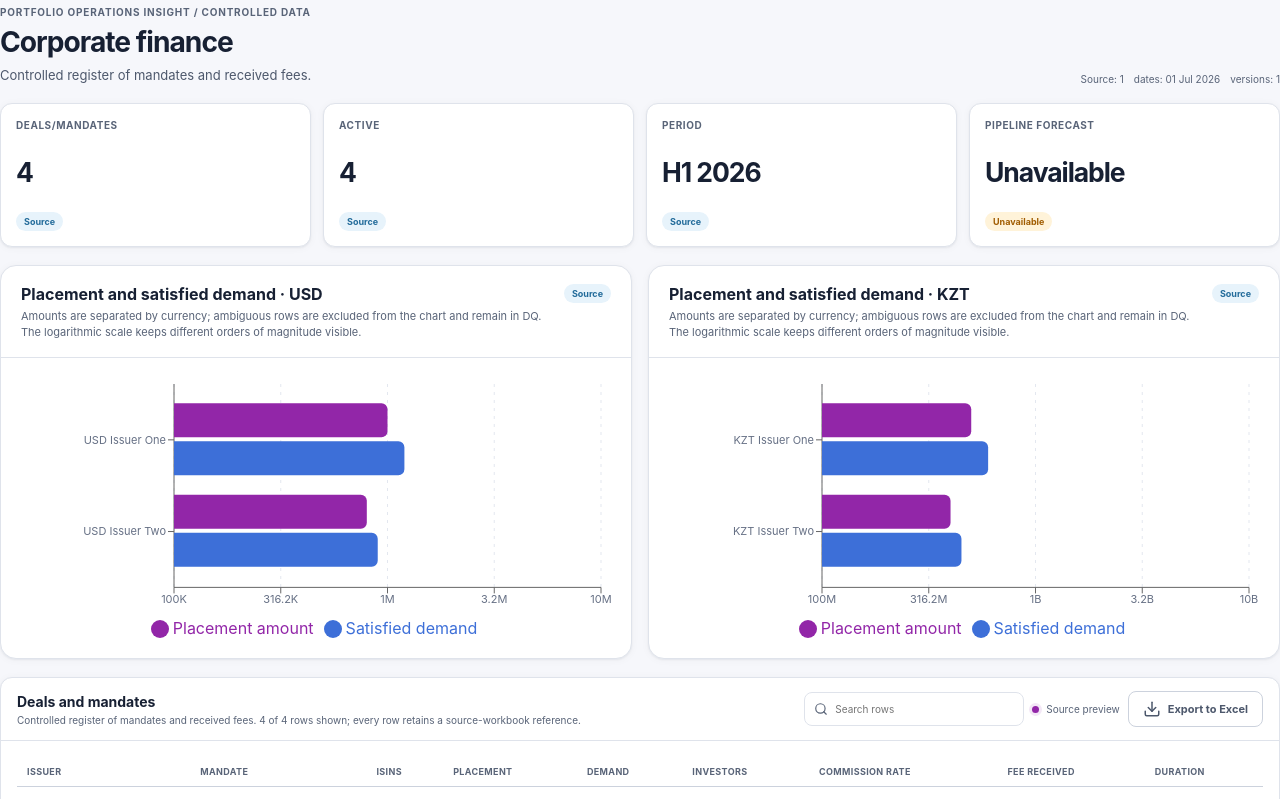
Scenario: multi-source domain pages › scopes a corporate-finance chart's evidence to only the issuers plotted on it, not every currency's rows
Click the button "Source" in the row of "Placement and satisfied demand · USD".
click(587, 294)  # box [564,284,611,303]
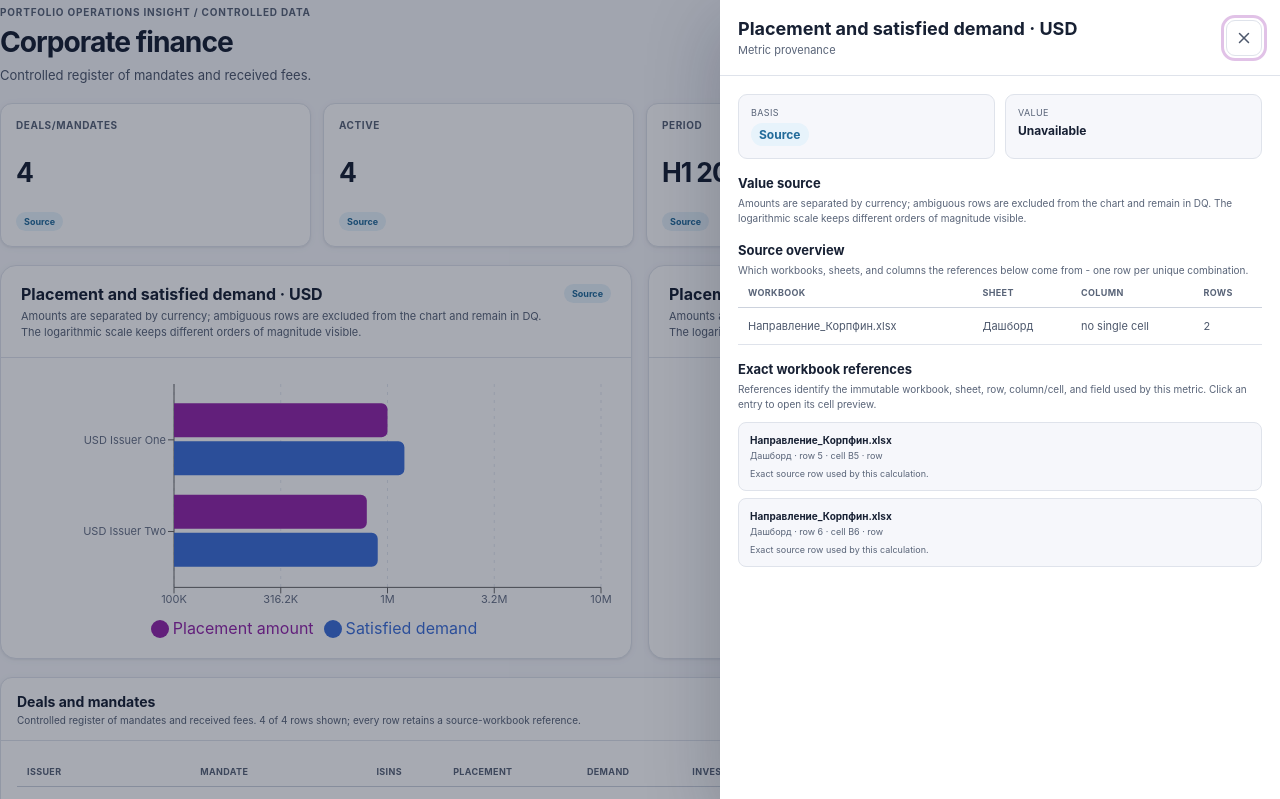
Check: the text "Дашборд · row 5 · cell B5 · row" is shown, box [750,450,883,461]
Check: the text "Дашборд · row 6 · cell B6 · row" is shown, box [750,526,883,537]
